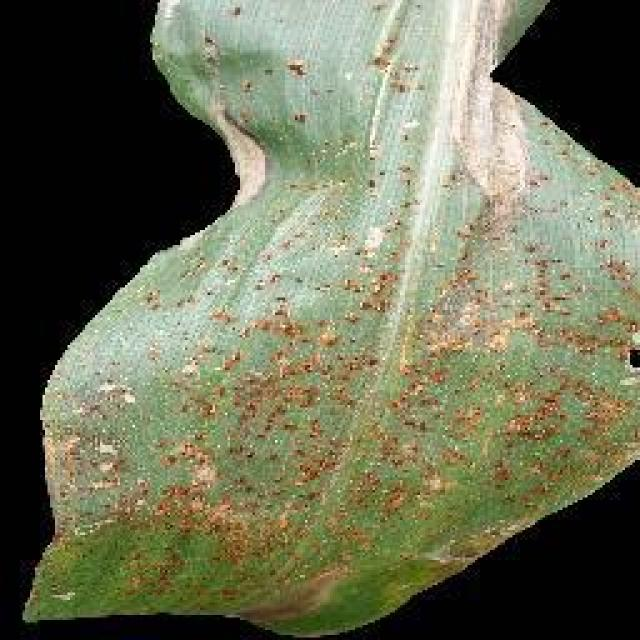Corn Common Rust: (95, 161, 640, 640)
